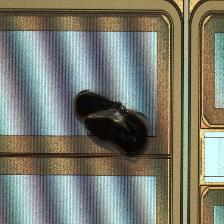PO CONTAMINATION: (69, 85, 154, 163)
